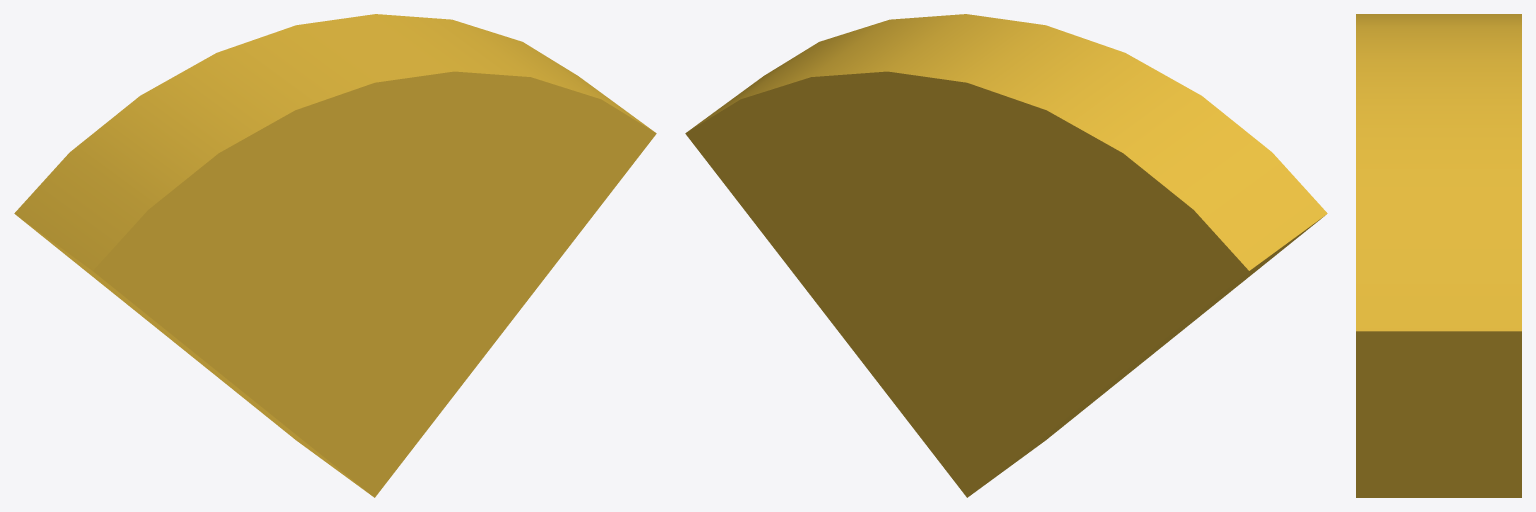
The model's file is slice_2.glb.
3 renders of one model, left to right at view 1: azimuth 30°, elevation 25°; view 2: azimuth 150°, elevation 25°; view 3: azimuth 270°, elevation 25°, orthographic. The views are drawn at different scales.
Visible parts, largest first — view 1: slice2; view 2: slice2; view 3: slice2.
Part boxes in pixels (box(x1,y1,x2,y2)): slice2: box(14, 14, 656, 497); slice2: box(685, 14, 1327, 497); slice2: box(1356, 14, 1521, 497).
Size of the model in its own units: 0.8289 by 0.583 by 0.2.
